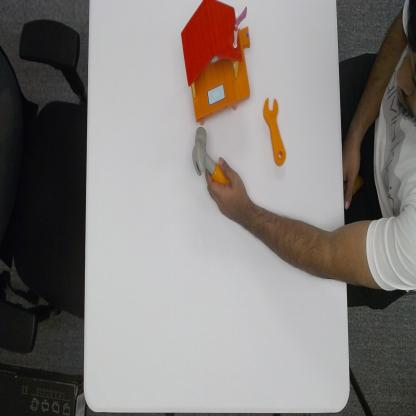Arm: (249, 197, 416, 293)
Hammer: (192, 124, 232, 187)
Hand: (204, 154, 250, 227)
House: (180, 0, 252, 125)
Screwdriver: (262, 96, 287, 169)
